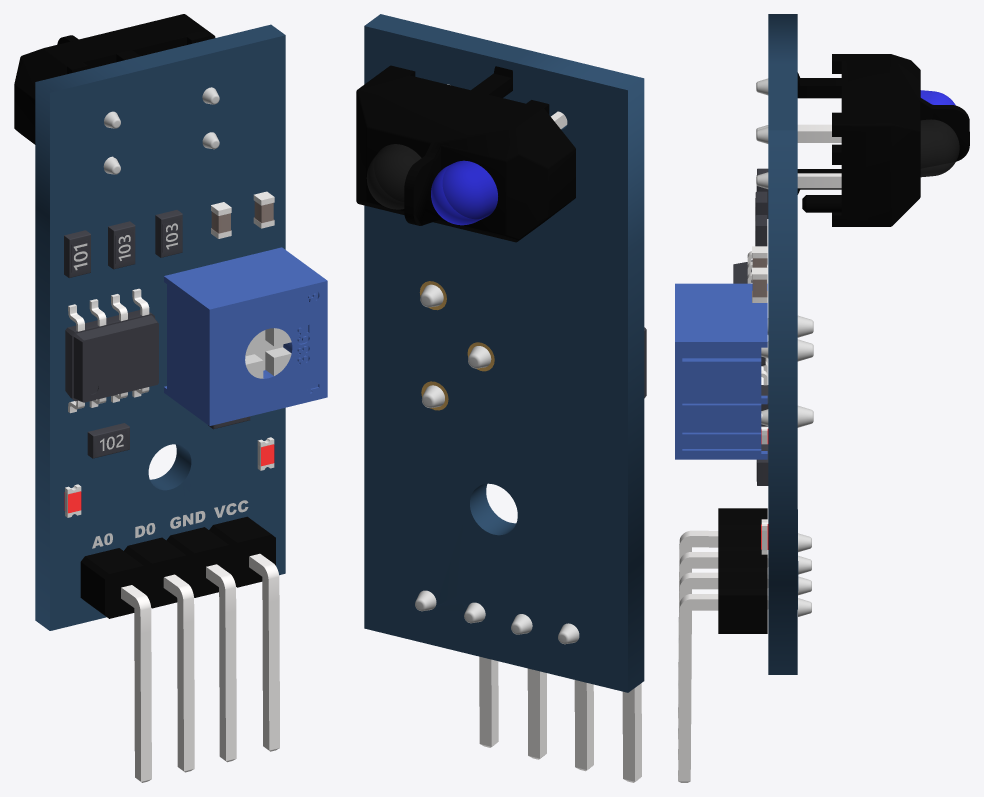
File: ir-obstacle.glb
The picture shows the model from 3 angles, left to right: view 1: azimuth 30°, elevation 25°; view 2: azimuth 150°, elevation 25°; view 3: azimuth 270°, elevation 25°; orthographic projection. The views are drawn at different scales.
Visible parts, largest first — view 1: Material_053-material, plastico_azul_002-material, metal_aluminio_003-material, chip_preto_003-material, plastico_preto_016-material, plastico_preto_005-material, metal_aluminio_004-material, Plastico_branco_002-material, _BRANCO_001-material, Metal_017-material, chip_marron_002-material, led_metal_002-material (+1 smaller); view 2: Material_053-material, plastico_preto_005-material, metal_aluminio_003-material, led_transp_002-material, Metal_017-material, led_preto_002-material, trilha_cobre_002-material; view 3: Material_053-material, plastico_preto_005-material, plastico_azul_002-material, plastico_preto_016-material, metal_aluminio_003-material, Metal_017-material, metal_aluminio_004-material, led_preto_002-material, chip_preto_003-material.
Part boxes in pixels (x1,y1,x2,y2): Material_053-material: (35, 24, 285, 630); plastico_azul_002-material: (164, 247, 327, 425); metal_aluminio_003-material: (121, 553, 279, 782); chip_preto_003-material: (64, 210, 250, 458); plastico_preto_016-material: (80, 516, 275, 618); plastico_preto_005-material: (14, 14, 215, 144); metal_aluminio_004-material: (65, 156, 274, 517); Plastico_branco_002-material: (245, 328, 291, 378); _BRANCO_001-material: (73, 223, 248, 548); Metal_017-material: (103, 87, 219, 174); chip_marron_002-material: (211, 201, 274, 233); led_metal_002-material: (65, 437, 274, 515); Material_053-material: (364, 14, 644, 692); plastico_preto_005-material: (356, 65, 575, 242); metal_aluminio_003-material: (479, 656, 641, 782); led_transp_002-material: (431, 160, 497, 225); Metal_017-material: (415, 284, 579, 644); led_preto_002-material: (366, 144, 421, 209); trilha_cobre_002-material: (419, 281, 494, 410); Material_053-material: (768, 14, 798, 674); plastico_preto_005-material: (797, 54, 969, 226); plastico_azul_002-material: (675, 283, 767, 459); plastico_preto_016-material: (718, 508, 767, 633); metal_aluminio_003-material: (678, 530, 768, 782); Metal_017-material: (756, 78, 813, 616); metal_aluminio_004-material: (747, 124, 841, 554); led_preto_002-material: (920, 119, 959, 177); chip_preto_003-material: (733, 168, 768, 485).
Bounding box in the file's own units: 0.014 × 0.038 × 0.015.
